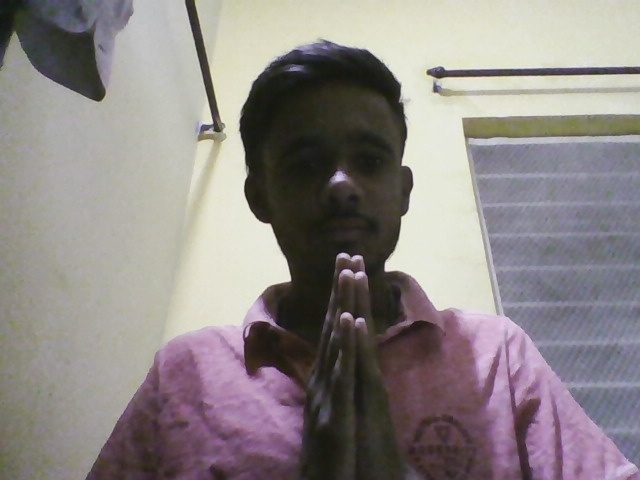thankyou: (281, 244, 415, 480)
